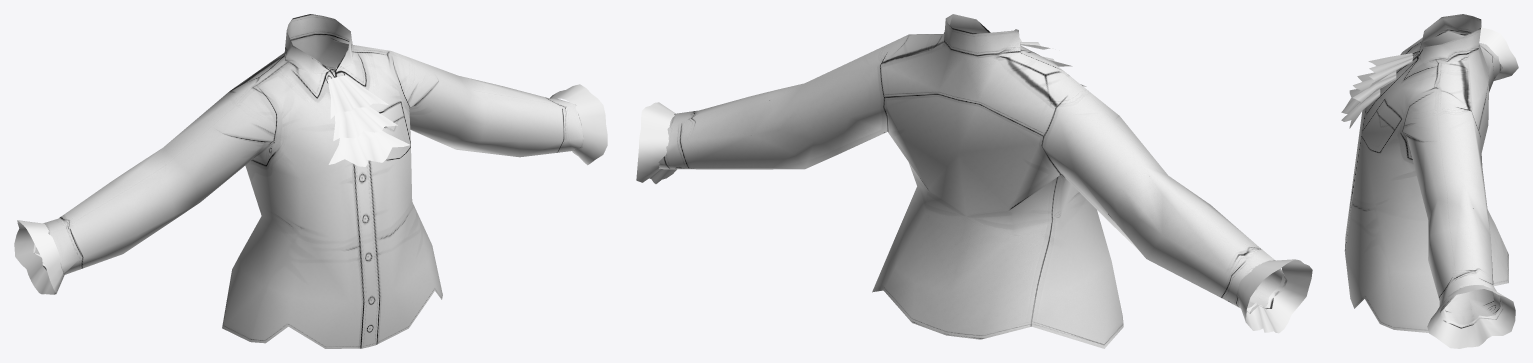
The model's file is ShirtRuffle.glb.
3 views of the same model, side by side, from view 1: azimuth 30°, elevation 25°; view 2: azimuth 150°, elevation 25°; view 3: azimuth 270°, elevation 25° (orthographic). The views are drawn at different scales.
Parts seen in each view (by area): view 1: ShirtRuffle; view 2: ShirtRuffle; view 3: ShirtRuffle.
Boxes of the visible parts, x1,y1,x2,y2 form: ShirtRuffle: (14,14,607,348); ShirtRuffle: (636,14,1312,348); ShirtRuffle: (1341,14,1518,348).
Size of the model in its own units: 17.59 by 8.34 by 4.93.
Materials: 1 (1 with a texture image).
